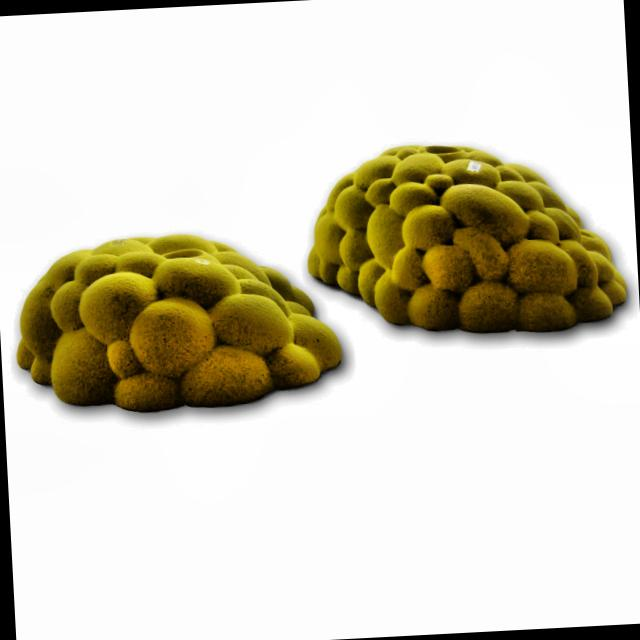Hold: (304, 130, 630, 348), (11, 230, 347, 418)
